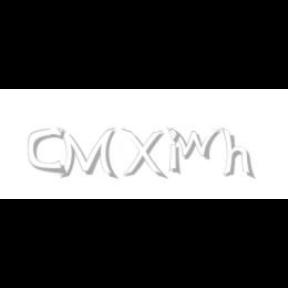C: (29, 128, 66, 174)
M: (56, 128, 115, 180)
X: (121, 128, 165, 180)
h: (222, 128, 256, 180)
i: (168, 128, 184, 176)
w: (166, 128, 226, 160)
